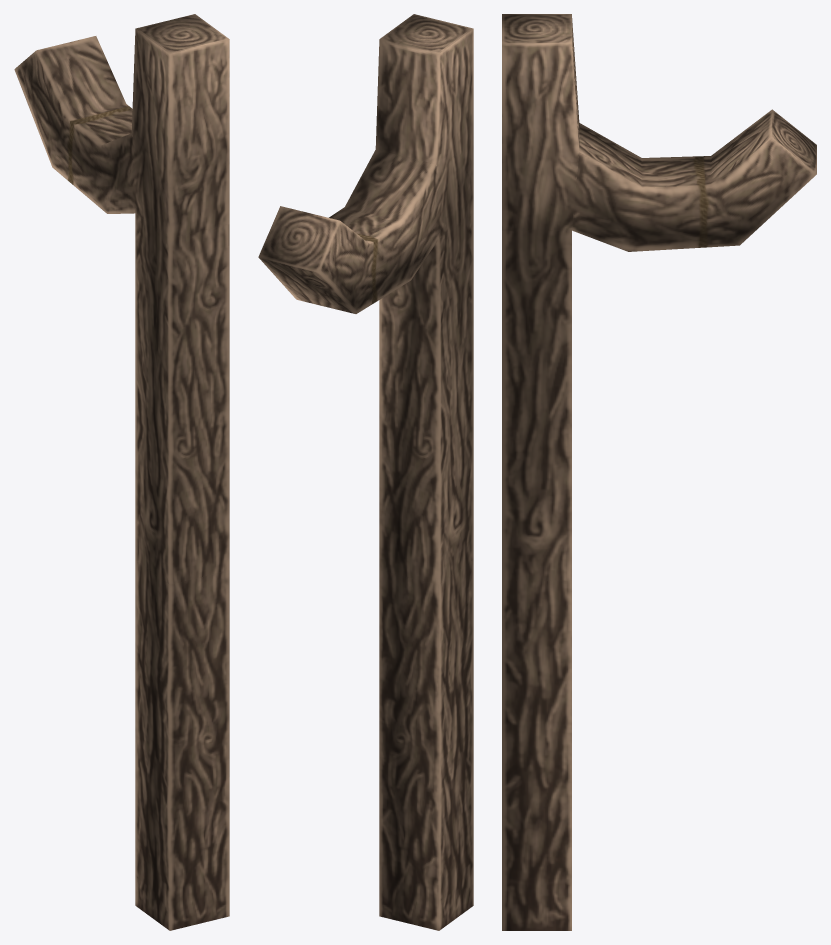
The model's file is Streetlight_holder.fbx.
3 views of the same model, side by side, from view 1: azimuth 30°, elevation 25°; view 2: azimuth 150°, elevation 25°; view 3: azimuth 270°, elevation 25° (orthographic).
Parts seen in each view (by area): view 1: Streetlight_holder; view 2: Streetlight_holder; view 3: Streetlight_holder.
Boxes of the visible parts, <box> form: Streetlight_holder: <box>14,14,229,930</box>; Streetlight_holder: <box>258,14,473,930</box>; Streetlight_holder: <box>502,14,816,930</box>.
Size of the model in its own units: 30.68 by 430 by 138.
